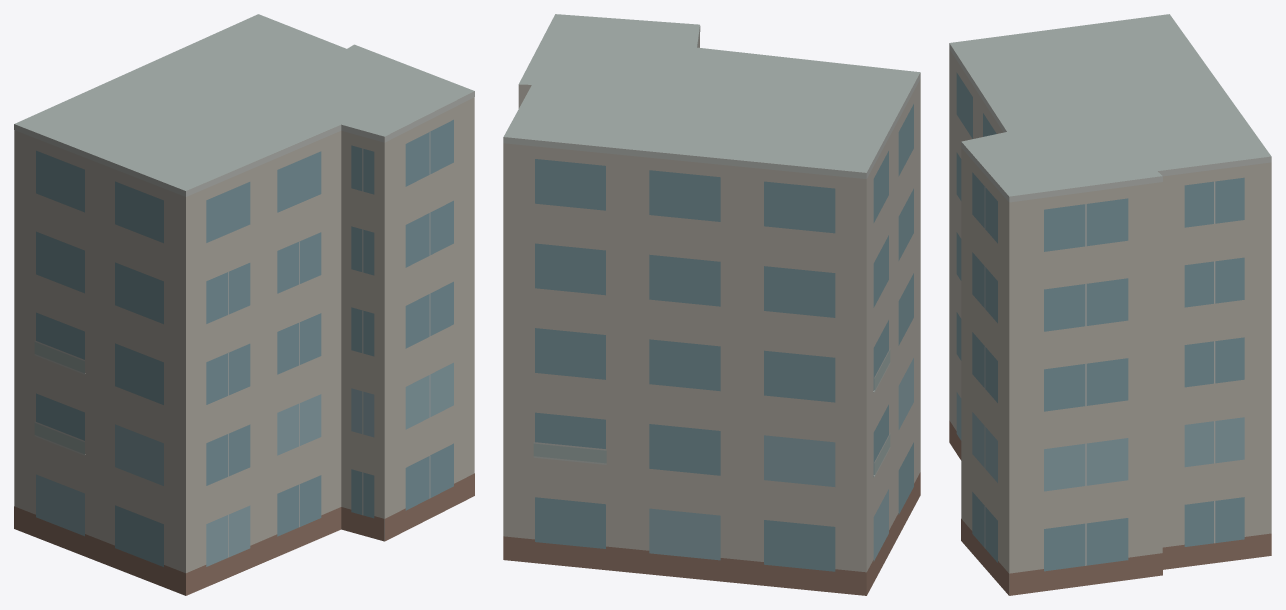
File: survey-upis-32727508.glb
3 views of the same model, side by side, from view 1: azimuth 30°, elevation 25°; view 2: azimuth 150°, elevation 25°; view 3: azimuth 270°, elevation 25° (orthographic). The views are drawn at different scales.
Visible parts, largest first — view 1: survey-upis-32727508.tmp; view 2: survey-upis-32727508.tmp; view 3: survey-upis-32727508.tmp.
Part boxes in pixels (box(x1,y1,x2,y2)): survey-upis-32727508.tmp: box(14, 14, 474, 595); survey-upis-32727508.tmp: box(503, 14, 920, 595); survey-upis-32727508.tmp: box(949, 14, 1271, 595).
Bounding box in the file's own units: 16.17 × 16.48 × 12.06.
